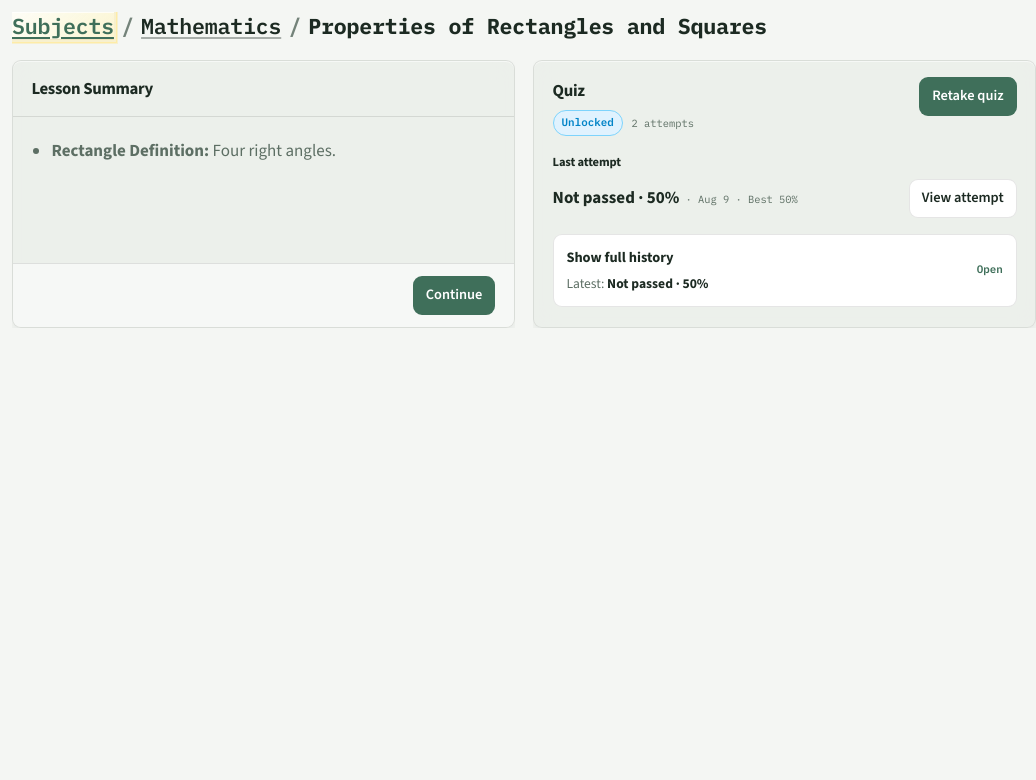
LessonPage › opens the quiz history page with the performance chart
Check: the heading "Last attempt" is shown, box [553, 154, 621, 170]
Click the link "Show full history Latest: Not passed · 50% Open". click: (620, 257)
box: [553, 234, 1017, 307]
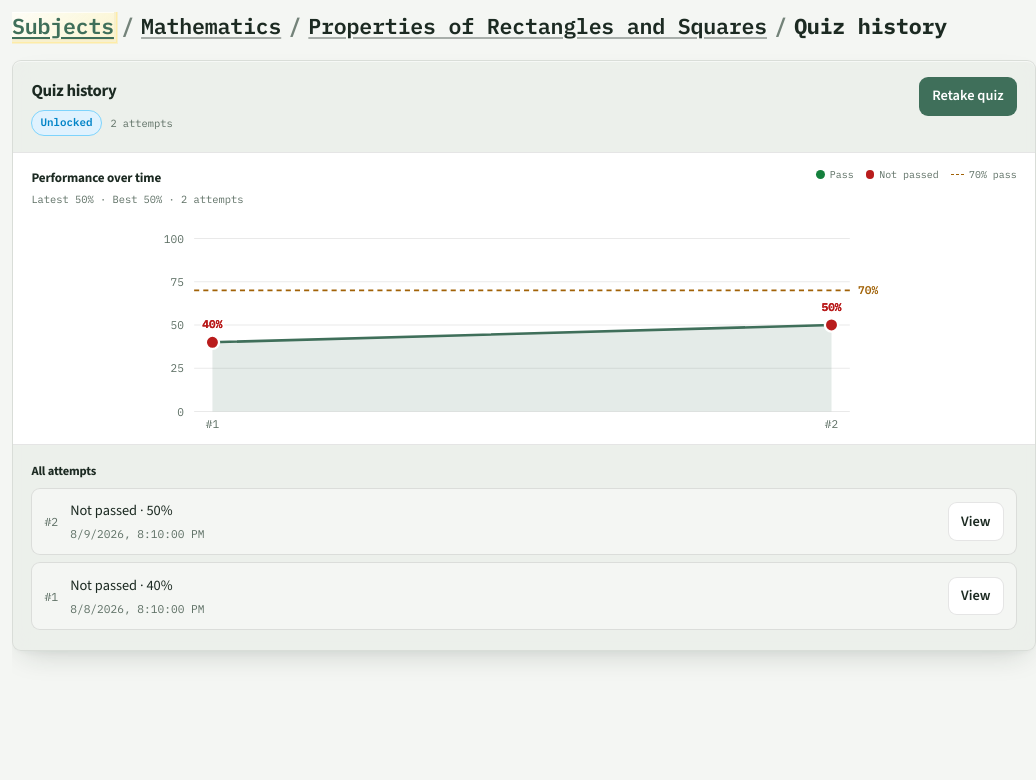
Check: the heading "Quiz history" is shown, box [31, 79, 116, 101]
Check: the heading "Performance over time" is shown, box [31, 169, 161, 186]
Check: the heading "All attempts" is shown, box [31, 463, 96, 479]
